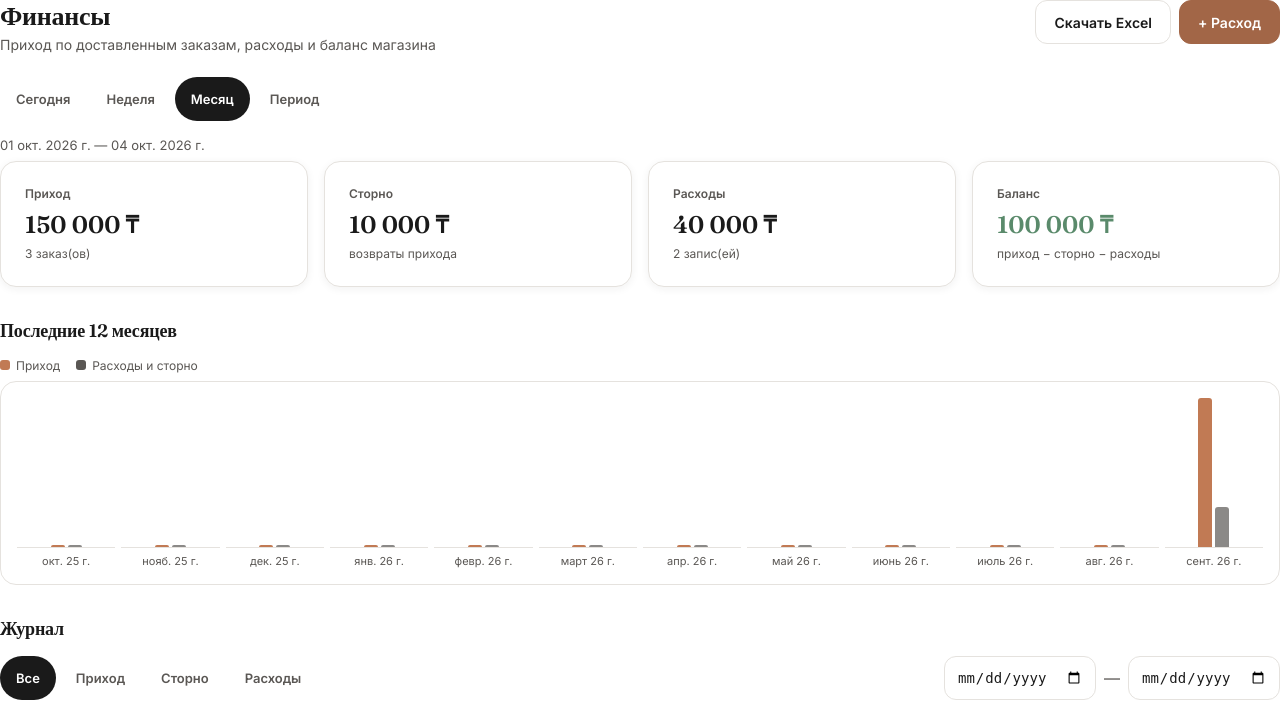
Test case: adding an expense › opens with today (in the shop) as the date and "Закупка" selected
The width and height of the screenshot is (1280, 720).
What coordinates should you click on to do the following:
click the button "+ Расход"
I would click on:
 (1230, 22)
Its box is top-left (1179, 0), bottom-right (1279, 44).
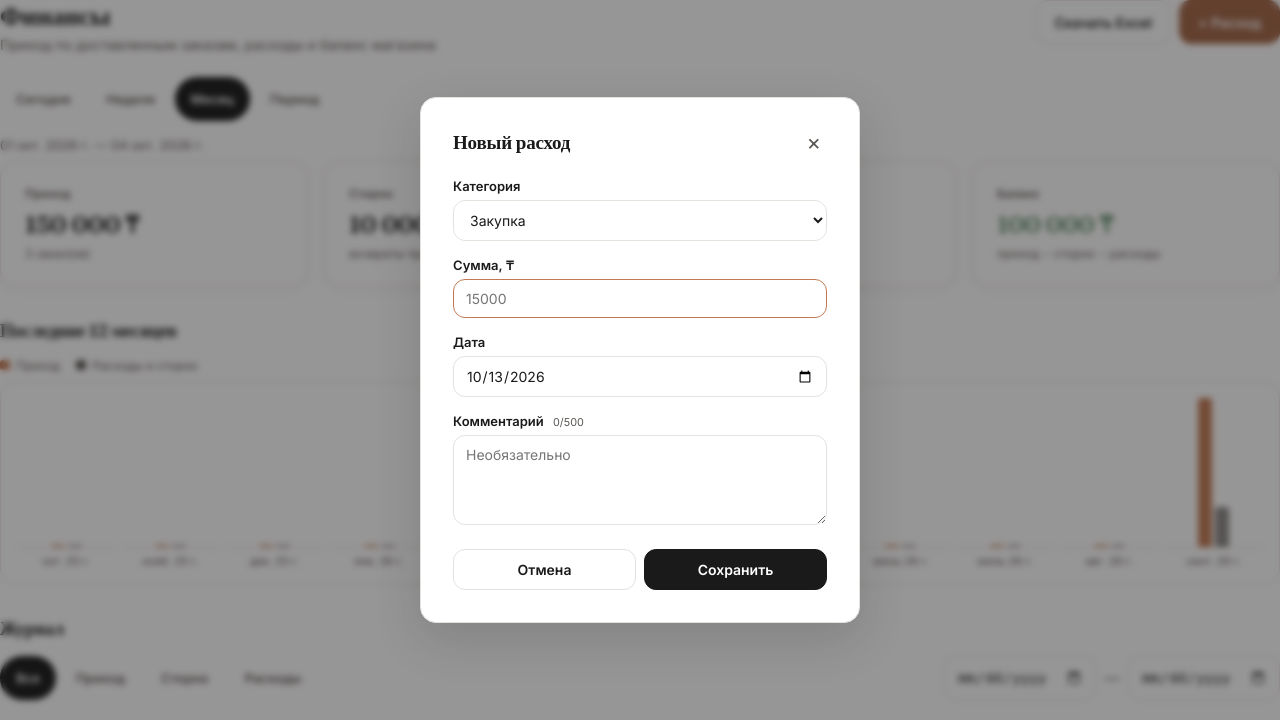
Result: the dropdown labelled "Категория" shows "Закупка" at top-left (453, 200), bottom-right (827, 241)
